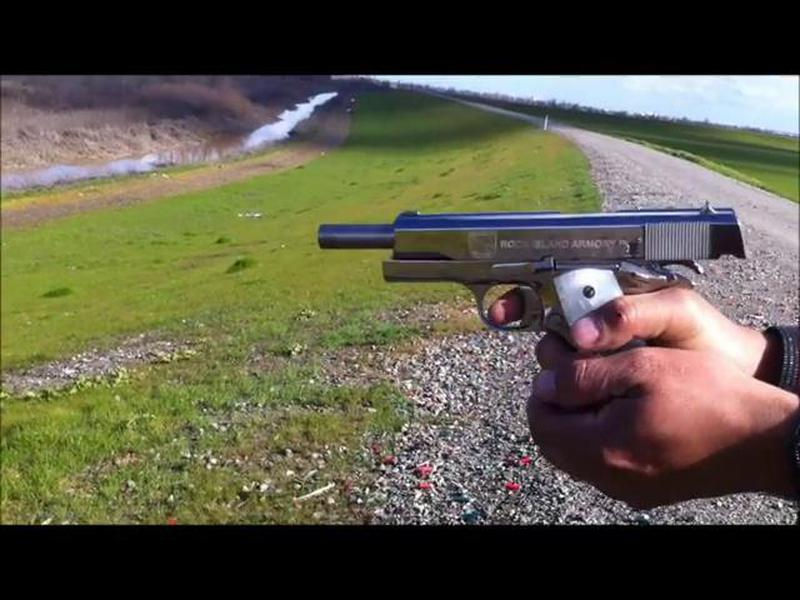Pistola: (304, 161, 736, 414)
